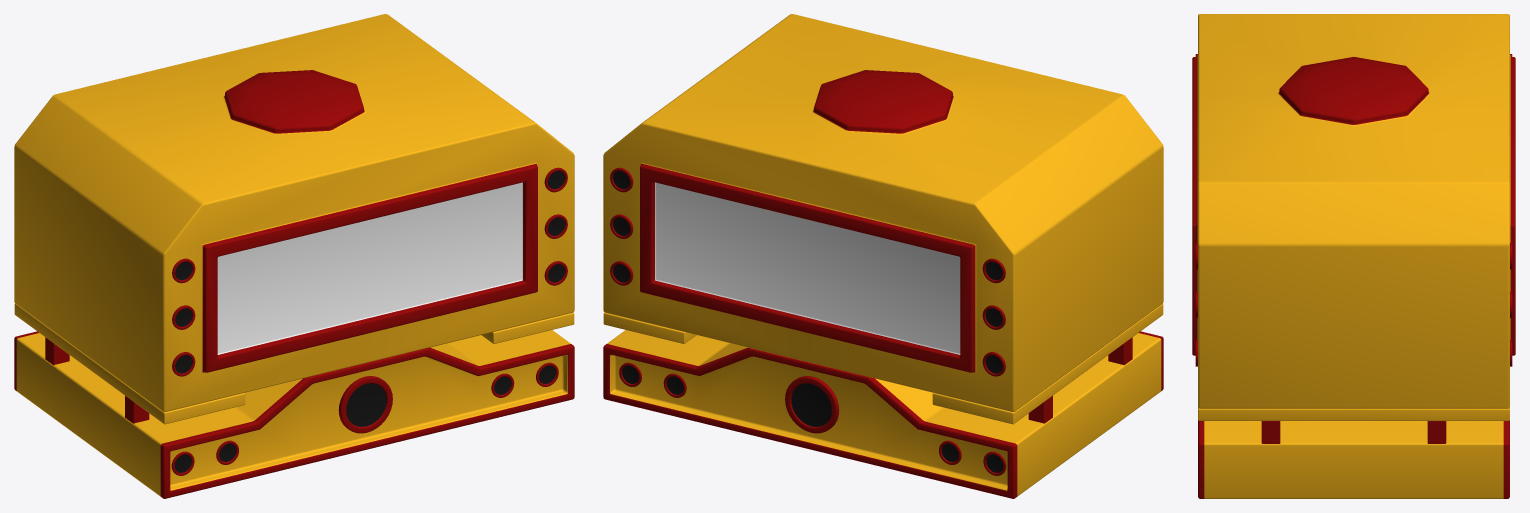
File: Elevator.fbx
The picture shows the model from 3 angles, left to right: view 1: azimuth 30°, elevation 25°; view 2: azimuth 150°, elevation 25°; view 3: azimuth 270°, elevation 25°; orthographic projection. The views are drawn at different scales.
Visible parts, largest first — view 1: E; view 2: E; view 3: E.
Boxes of the visible parts, x1=… form: E: x1=14, y1=14, x2=574, y2=498; E: x1=603, y1=14, x2=1163, y2=498; E: x1=1192, y1=14, x2=1515, y2=498.
Bounding box in the file's own units: 905 × 635 × 593.
